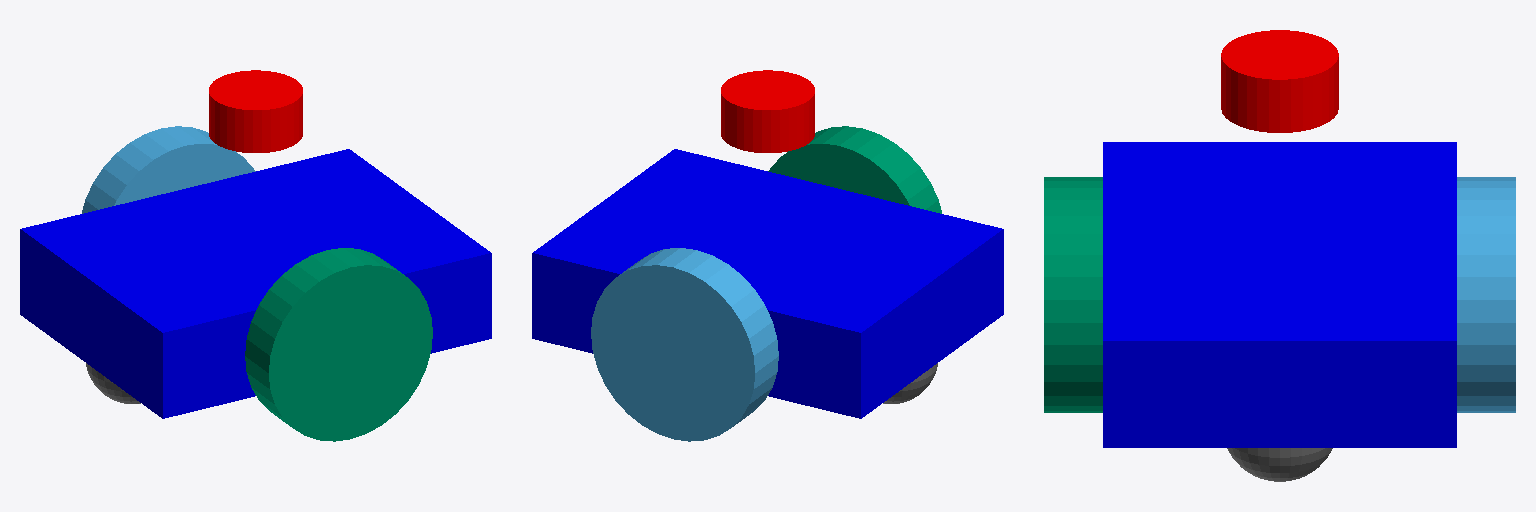
robot.urdf — my_robot:
<?xml version="1.0" ?>
<robot name="my_robot">

  <link name="base_link"> #底盘
    <visual>
      <geometry><box size="0.4 0.3 0.1"/></geometry>
      <material name="blue"><color rgba="0 0 1 1"/></material>
    </visual>
    <collision>
      <geometry><box size="0.4 0.28 0.1"/></geometry>
    </collision>
    <inertial>
      <mass value="5.0"/>
      <inertia ixx="0.04" ixy="0" ixz="0" iyy="0.07" iyz="0" izz="0.1"/>
    </inertial>
  </link>

  <link name="left_wheel"> #左轮
    <visual><geometry><cylinder radius="0.1" length="0.05"/></geometry></visual>
    <collision><geometry><cylinder radius="0.1" length="0.05"/></geometry></collision>
    <inertial><mass value="1.0"/><inertia ixx="0.003" ixy="0" ixz="0" iyy="0.003" iyz="0" izz="0.005"/></inertial>
  </link>
  <joint name="left_joint" type="continuous">
    <parent link="base_link"/><child link="left_wheel"/>
    <origin xyz="0 0.175 0" rpy="-1.5708 0 0"/><axis xyz="0 0 1"/>
  </joint>

  <link name="right_wheel"> #右轮
    <visual><geometry><cylinder radius="0.1" length="0.05"/></geometry></visual>
    <collision><geometry><cylinder radius="0.1" length="0.05"/></geometry></collision>
    <inertial><mass value="1.0"/><inertia ixx="0.003" ixy="0" ixz="0" iyy="0.003" iyz="0" izz="0.005"/></inertial>
  </link>
  <joint name="right_joint" type="continuous">
    <parent link="base_link"/><child link="right_wheel"/>
    <origin xyz="0 -0.175 0" rpy="-1.5708 0 0"/><axis xyz="0 0 1"/>
  </joint>

  <link name="front_caster"> #前轮
    <visual>
      <geometry><sphere radius="0.05"/></geometry>
      <material name="grey"><color rgba="0.5 0.5 0.5 1"/></material>
    </visual>
    <collision><geometry><sphere radius="0.05"/></geometry></collision>
    <inertial><mass value="0.5"/><inertia ixx="0.001" ixy="0" ixz="0" iyy="0.001" iyz="0" izz="0.001"/></inertial>
  </link>
  <joint name="front_caster_joint" type="fixed">
    <parent link="base_link"/><child link="front_caster"/>
    <origin xyz="0.15 0 -0.05" rpy="0 0 0"/>
  </joint>

  <link name="rear_caster"> #后轮
    <visual><geometry><sphere radius="0.05"/></geometry><material name="grey"><color rgba="0.5 0.5 0.5 1"/></material></visual>
    <collision><geometry><sphere radius="0.05"/></geometry></collision>
    <inertial><mass value="0.5"/><inertia ixx="0.001" ixy="0" ixz="0" iyy="0.001" iyz="0" izz="0.001"/></inertial>
  </link>
  <joint name="rear_caster_joint" type="fixed">
    <parent link="base_link"/><child link="rear_caster"/>
    <origin xyz="-0.15 0 -0.05" rpy="0 0 0"/>
  </joint>

  <gazebo reference="front_caster">
    <mu1>0.0</mu1>
    <mu2>0.0</mu2>
  </gazebo>
  <gazebo reference="rear_caster">
    <mu1>0.0</mu1>
    <mu2>0.0</mu2>
  </gazebo>

  <link name="laser">
    <visual><geometry><cylinder radius="0.05" length="0.05"/></geometry><material name="red"><color rgba="1 0 0 1"/></material></visual>
    <collision><geometry><cylinder radius="0.05" length="0.05"/></geometry></collision>
    <inertial><mass value="0.2"/><inertia ixx="0.001" ixy="0" ixz="0" iyy="0.001" iyz="0" izz="0.001"/></inertial>
  </link>
  <joint name="laser_joint" type="fixed">
    <parent link="base_link"/><child link="laser"/>
    <origin xyz="0 0 0.2" rpy="0 0 3.14159"/>
  </joint>

  <gazebo>
    <plugin filename="gz-sim-diff-drive-system" name="gz::sim::systems::DiffDrive">
      <left_joint>left_joint</left_joint>
      <right_joint>right_joint</right_joint>
      
      <wheel_separation>0.35</wheel_separation>
      <wheel_radius>0.1</wheel_radius>
      
      <odom_publish_frequency>50</odom_publish_frequency>
      <topic>/cmd_vel</topic>
      <odom_topic>/odom</odom_topic>
      <tf_topic>/tf</tf_topic>
      <frame_id>odom</frame_id>
      <child_frame_id>base_link</child_frame_id>
    </plugin>
  </gazebo>

  <gazebo reference="laser">
    <sensor name="laser_sensor" type="gpu_lidar">
      <topic>/scan</topic>
      <update_rate>10</update_rate>
      <gz_frame_id>laser</gz_frame_id>
      <lidar>
        <scan>
          <horizontal>
            <samples>360</samples>
            <resolution>1</resolution>
            <min_angle>-3.14159</min_angle>
            <max_angle>3.14159</max_angle>
          </horizontal>
        </scan>
        <range><min>0.2</min><max>12.0</max></range>
      </lidar>
      <always_on>1</always_on>
      <visualize>true</visualize>
    </sensor>
  </gazebo>
</robot>

--- Facts derived from the render (not from the file) ---
3 views of the same robot in one strip: view 1: azimuth 30°, elevation 25°; view 2: azimuth 150°, elevation 25°; view 3: azimuth 270°, elevation 25° (orthographic).
Model my_robot with 6 links and 5 joints (2 continuous, 3 fixed), rooted at base_link, posed all joints at 0.
Links seen in each view (by area): view 1: base_link, right_wheel, left_wheel, laser, rear_caster; view 2: base_link, left_wheel, right_wheel, laser, rear_caster; view 3: base_link, left_wheel, right_wheel, laser, front_caster.
Boxes of the visible links, bbox=[...] form: base_link: bbox=[20, 149, 491, 418]; right_wheel: bbox=[245, 248, 432, 441]; left_wheel: bbox=[82, 126, 255, 213]; laser: bbox=[209, 70, 302, 152]; rear_caster: bbox=[86, 363, 140, 403]; base_link: bbox=[532, 149, 1003, 418]; left_wheel: bbox=[591, 248, 778, 441]; right_wheel: bbox=[768, 126, 941, 213]; laser: bbox=[721, 70, 814, 152]; rear_caster: bbox=[883, 363, 937, 403]; base_link: bbox=[1103, 142, 1456, 447]; left_wheel: bbox=[1457, 177, 1515, 412]; right_wheel: bbox=[1044, 177, 1102, 412]; laser: bbox=[1221, 30, 1338, 132]; front_caster: bbox=[1227, 448, 1332, 481].
Bounding box of the posed robot: 0.4 × 0.4 × 0.325 m (x, y, z).
Geometry: primitives only (box / cylinder / sphere), no mesh files.
